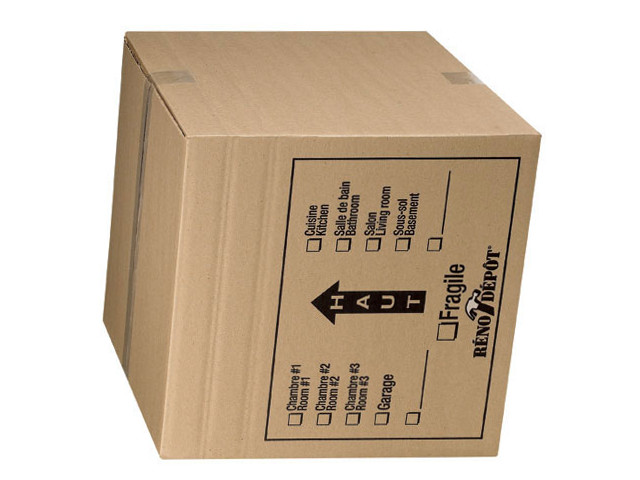cardboard: (99, 31, 541, 458)
